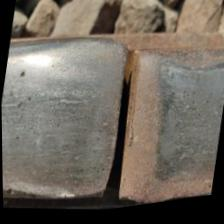person: (25, 16, 219, 221)
